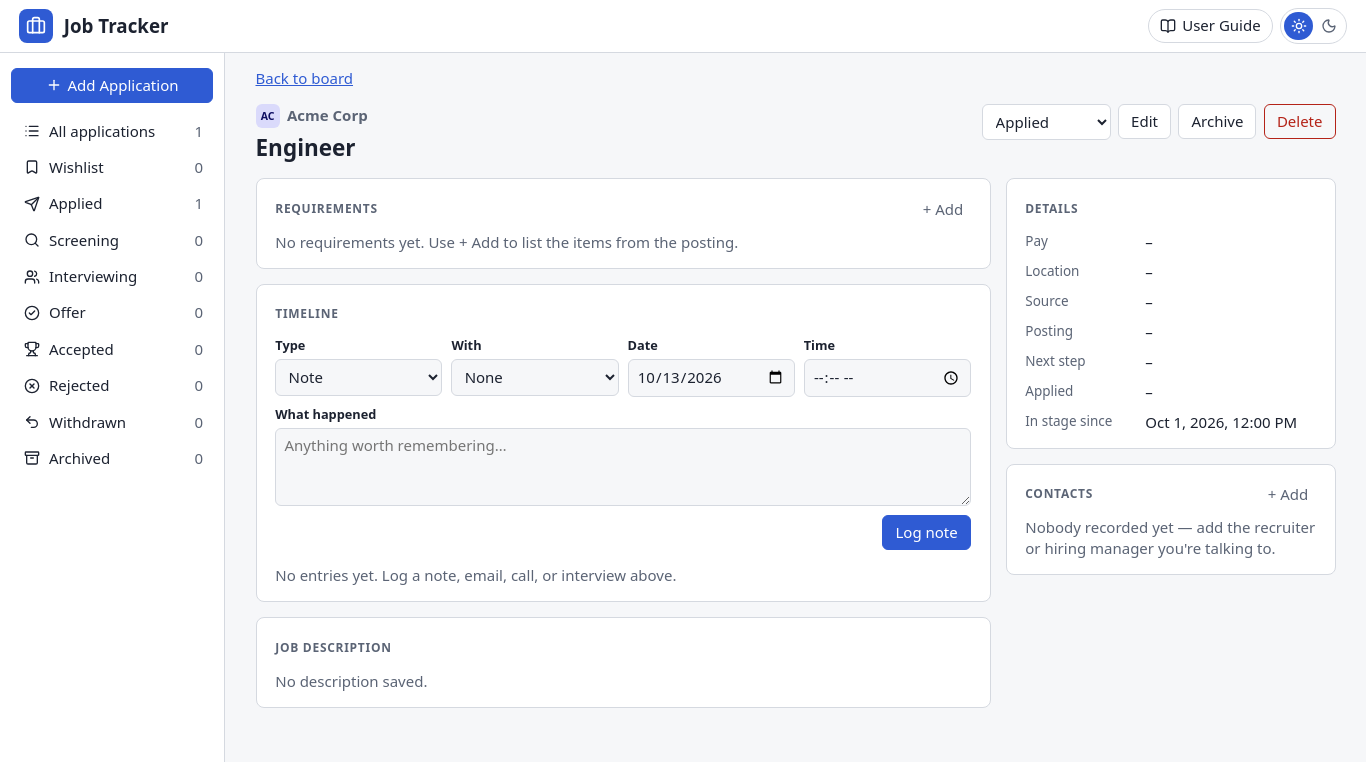
it: the Requirements section › keeps what I typed when adding fails, and says why (AC-13)
Click the button with aria-label "Add requirement" at (943, 209), box [915, 195, 971, 223]
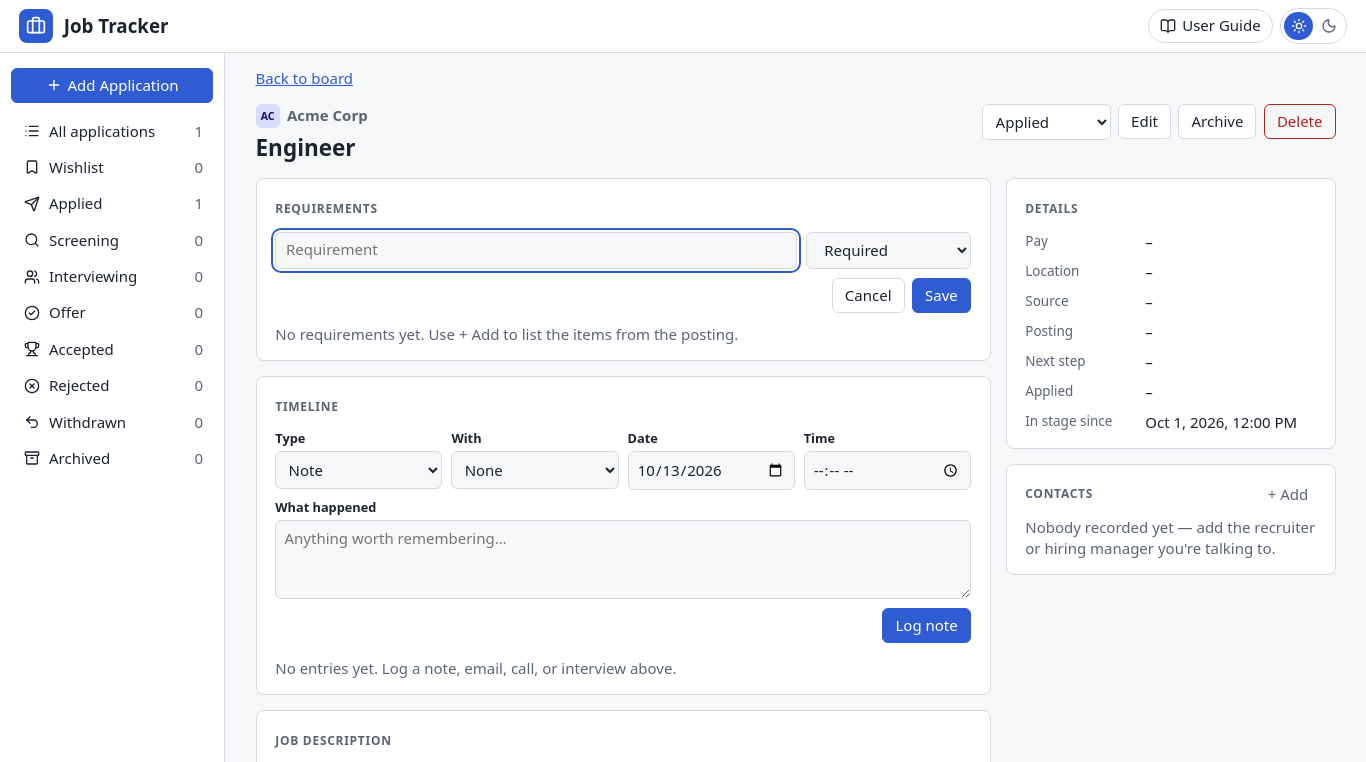
Type "Keep me" into the text box named "Text" at (536, 250), box [275, 232, 797, 268]
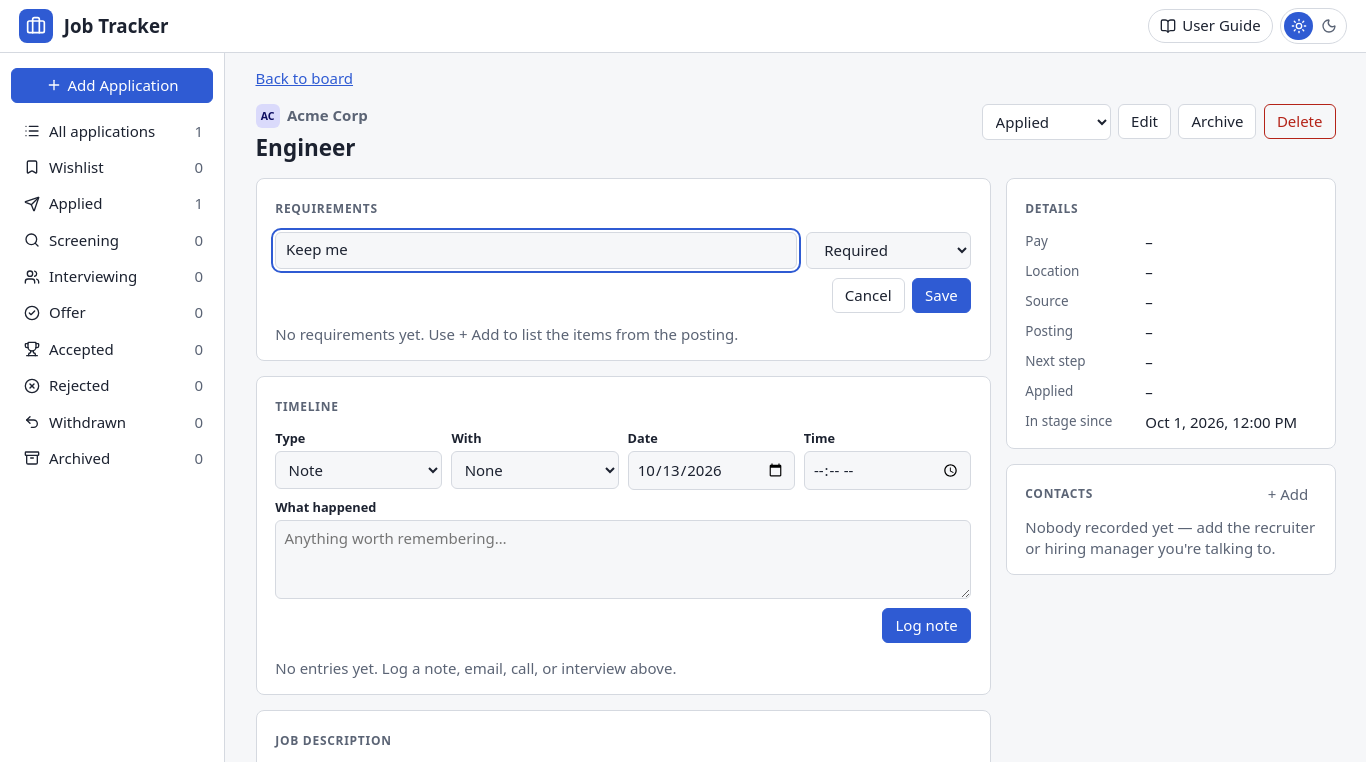
Click the button "Save" at (941, 296), box [912, 278, 971, 313]
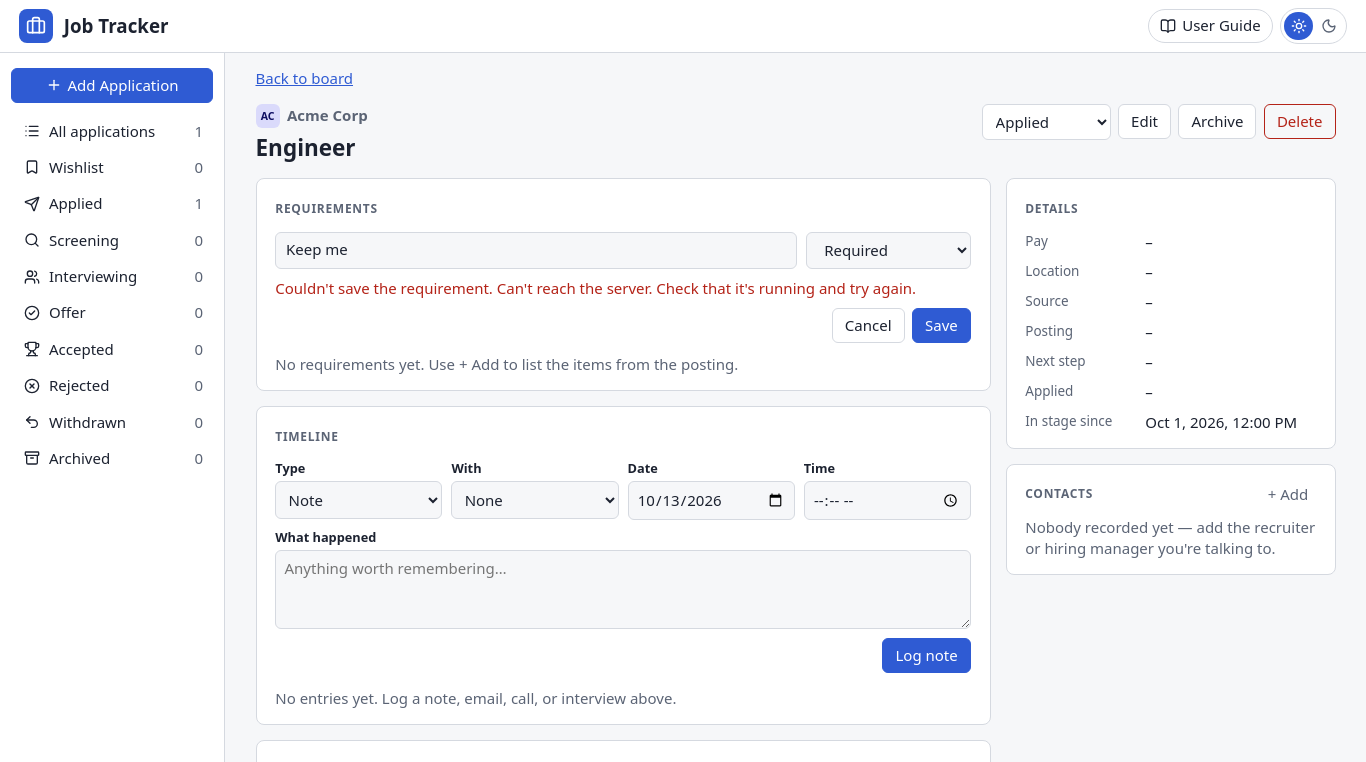
expect the message shows "Couldn't save the requirement": met, box [275, 278, 916, 298]
expect the message shows "Can't reach the server": met, box [275, 278, 916, 298]
